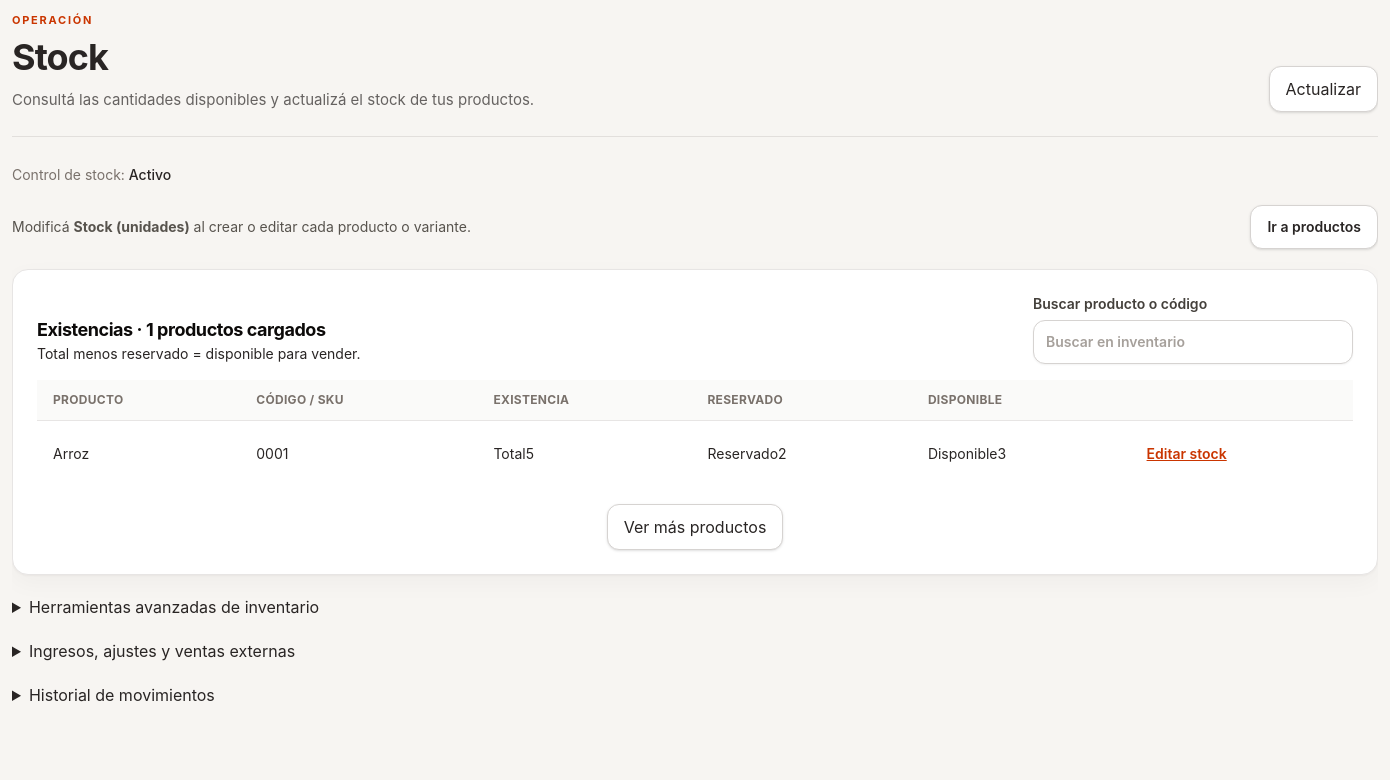
Test case: inventory operation UI (backend contracts simulated) › loads item pages incrementally without downloading the overview and history again
Check: the text "Arroz" is shown, box [37,420,240,488]
Check: the text "Fideos" is not shown
Click the button "Ver más productos": (695, 527) [607,504,783,550]
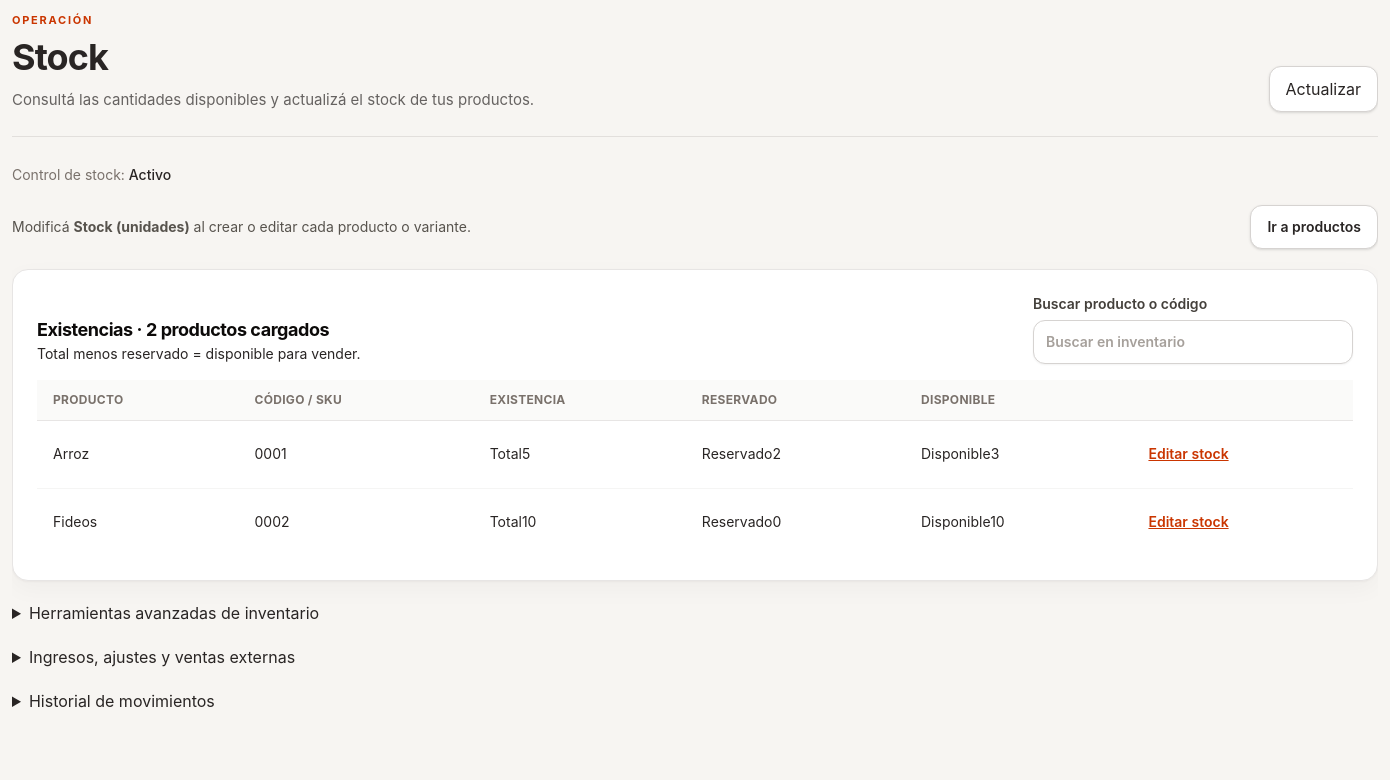
Check: the text "Fideos" is shown, box [37,488,238,556]
